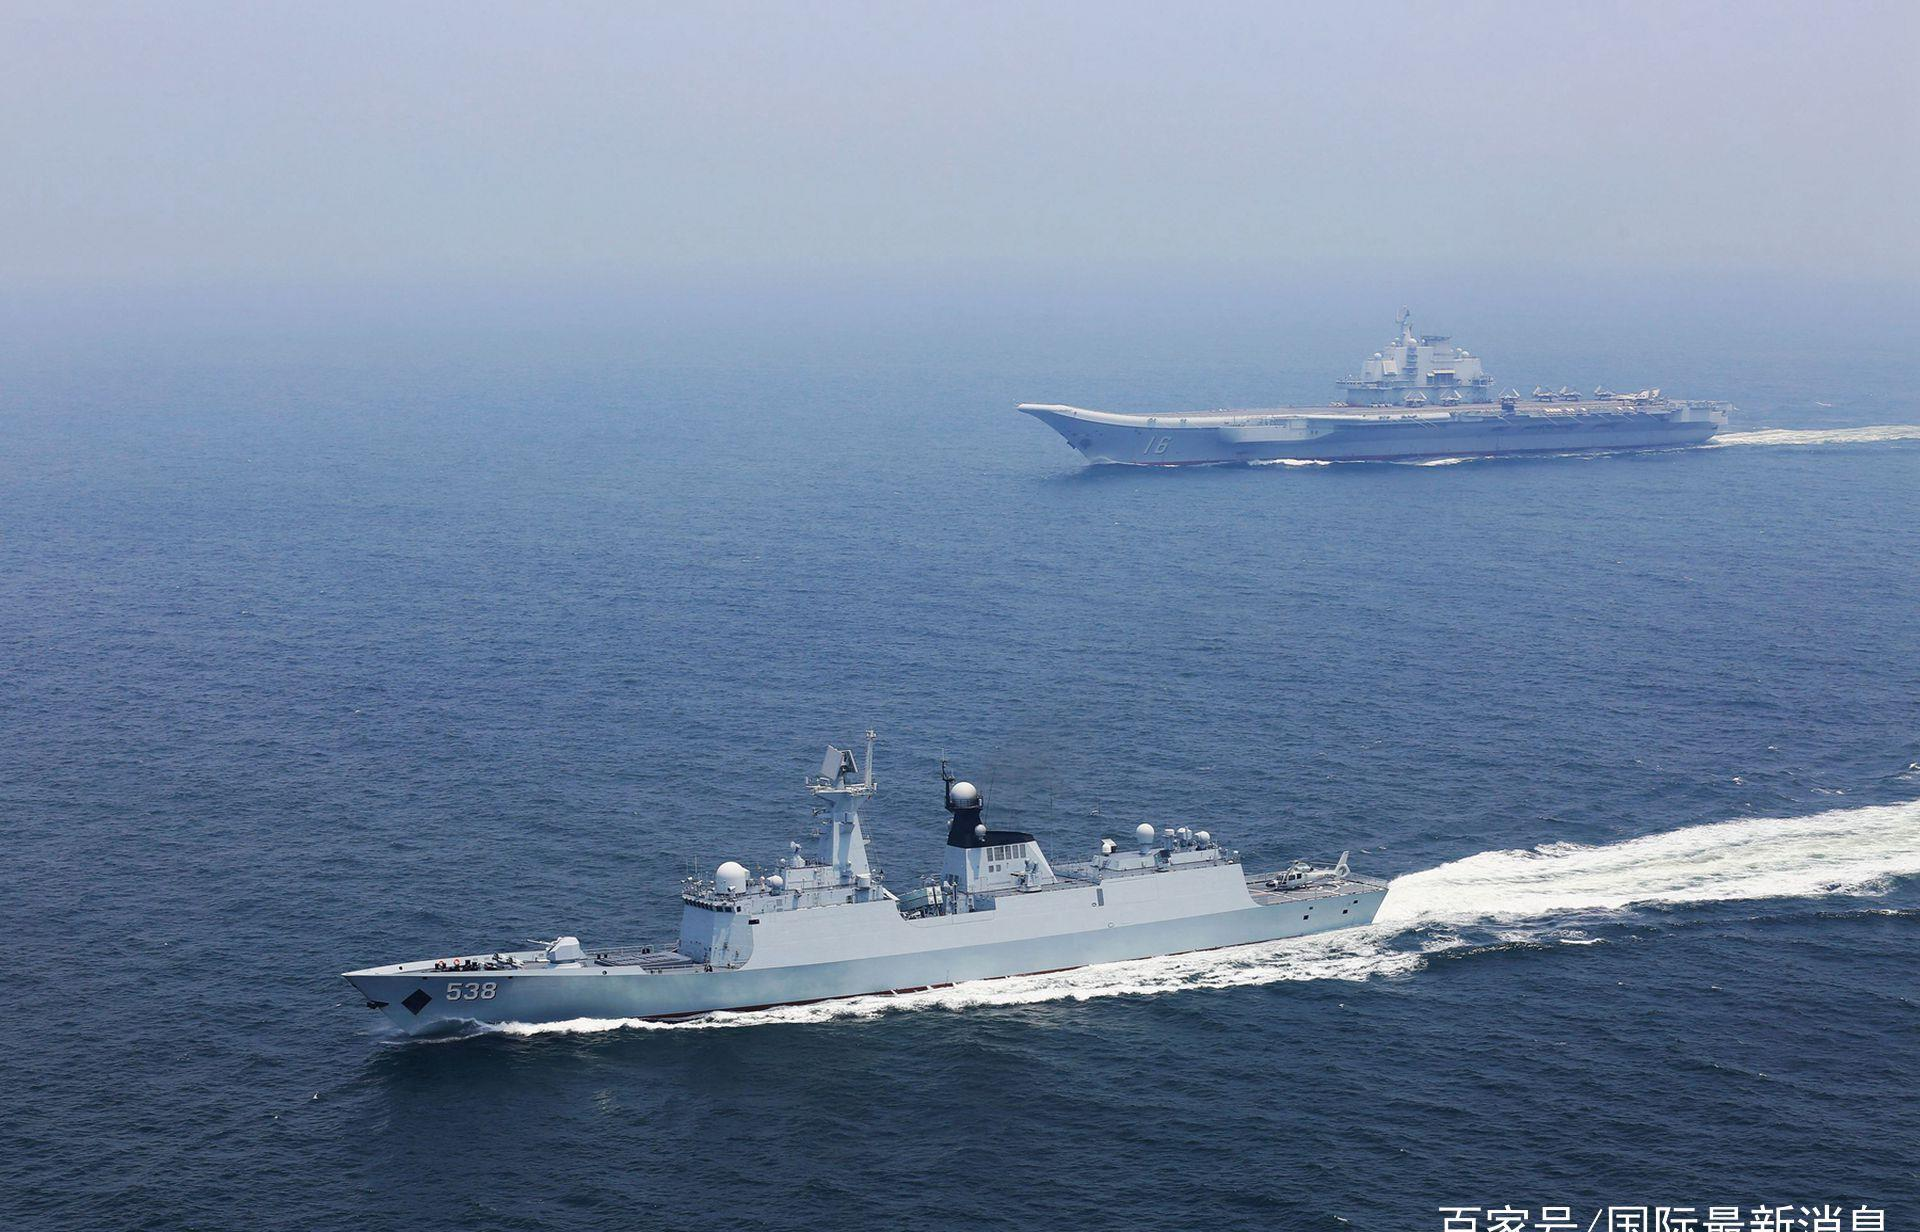warship: (336, 728, 1397, 1078), (1003, 288, 1742, 476)
